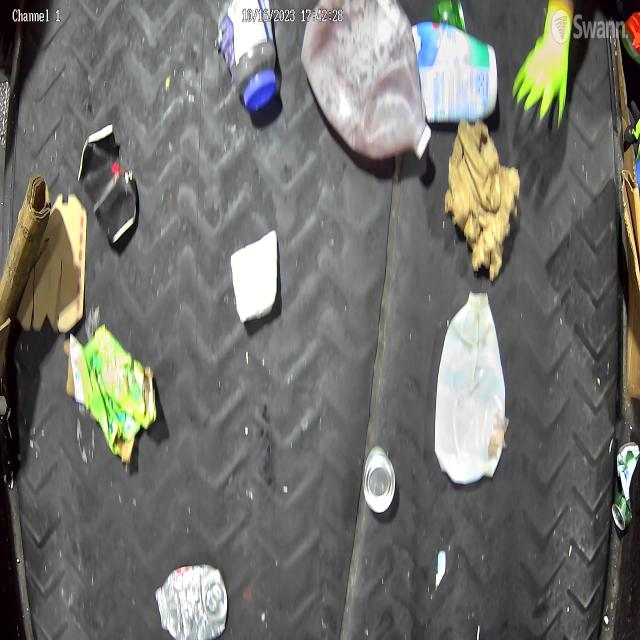can: (155, 560, 229, 639), (612, 440, 640, 545), (364, 448, 398, 520)
milk_jug: (302, 2, 433, 170), (433, 292, 508, 487)
